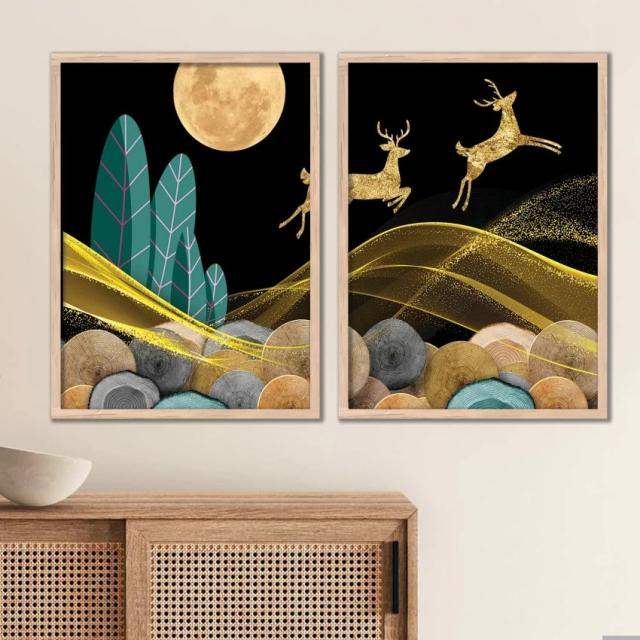painting: (50, 51, 322, 418), (338, 52, 610, 419)
